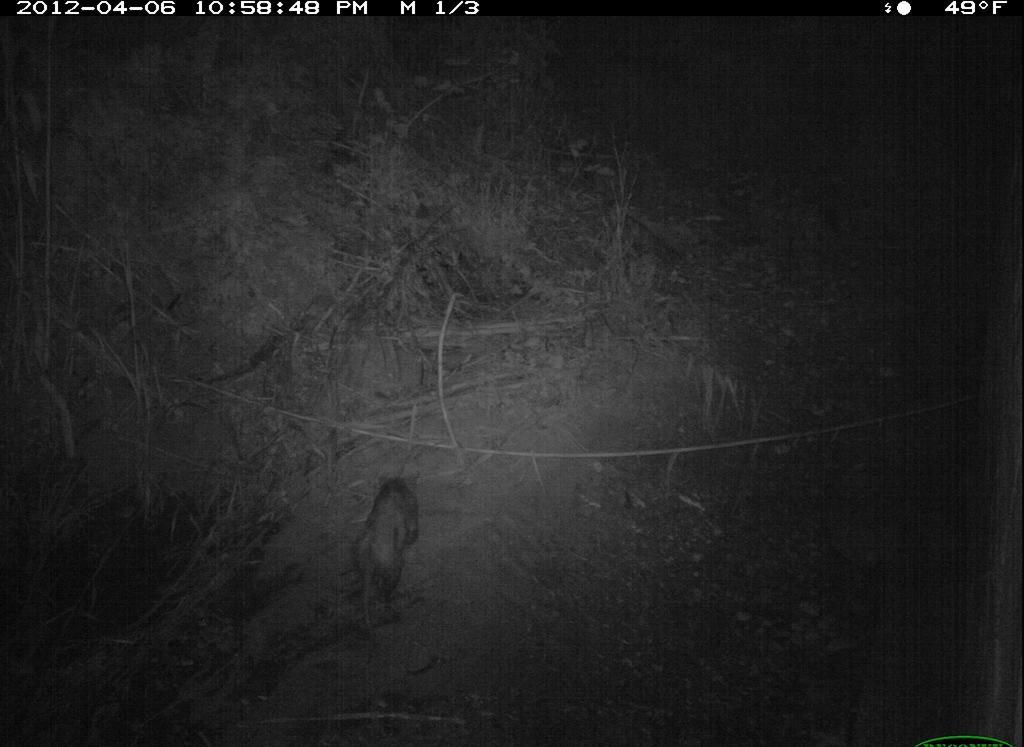opossum: (346, 468, 427, 651)
